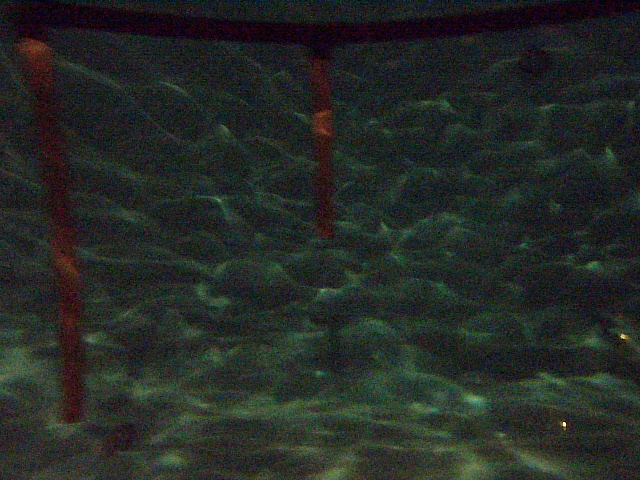Gate: (14, 30, 89, 430), (309, 51, 337, 240)
